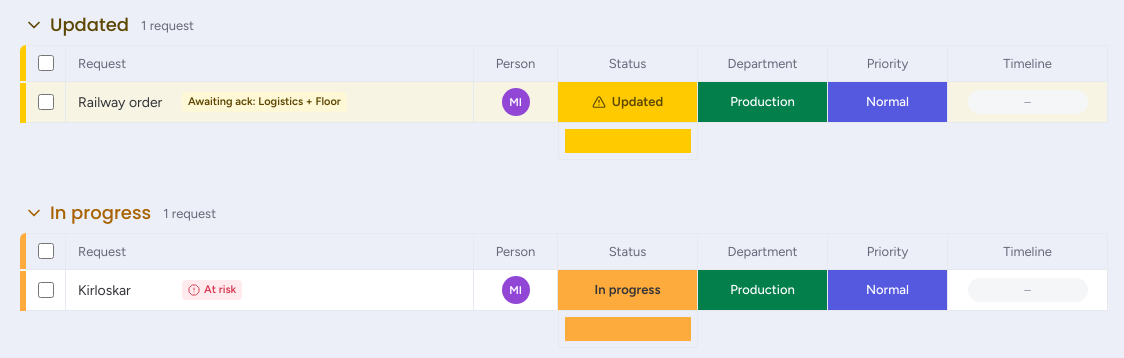
it: RequestBoard › renders non-empty groups with flags and links
Expected: the text "Awaiting ack: Logistics + Floor" is shown, [182, 92, 347, 112]
Expected: the text "At risk" is shown, [182, 280, 242, 300]
Click the button "Updated" at (76, 25), box [20, 12, 133, 38]
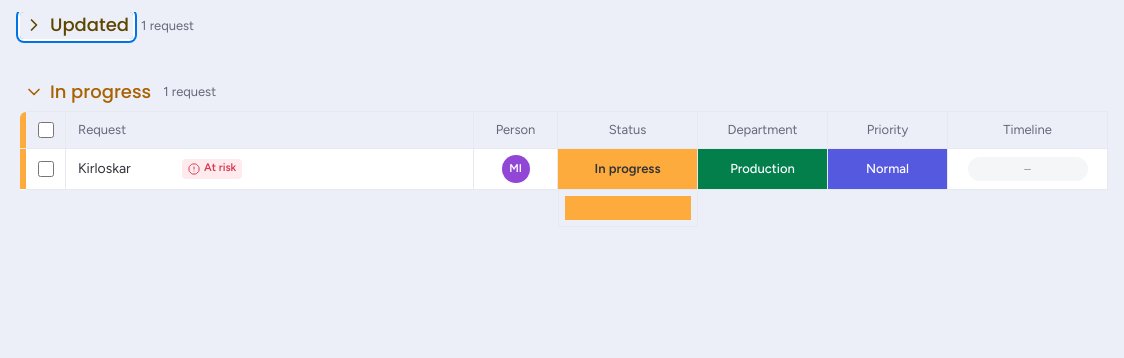
Now the link "Railway order" is gone
